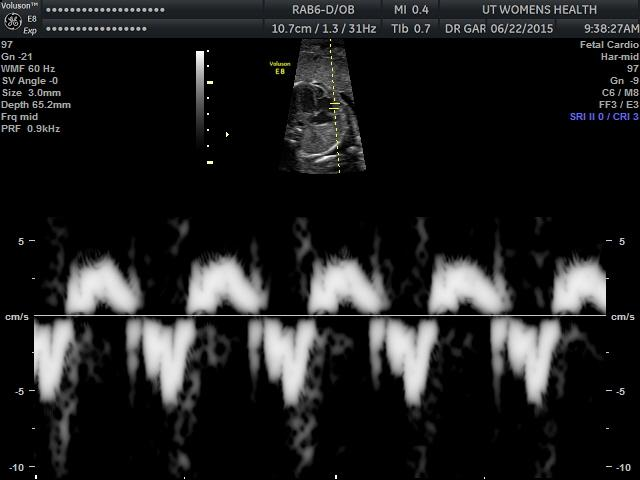Ultrasound-Waves: (36, 208, 604, 469)
